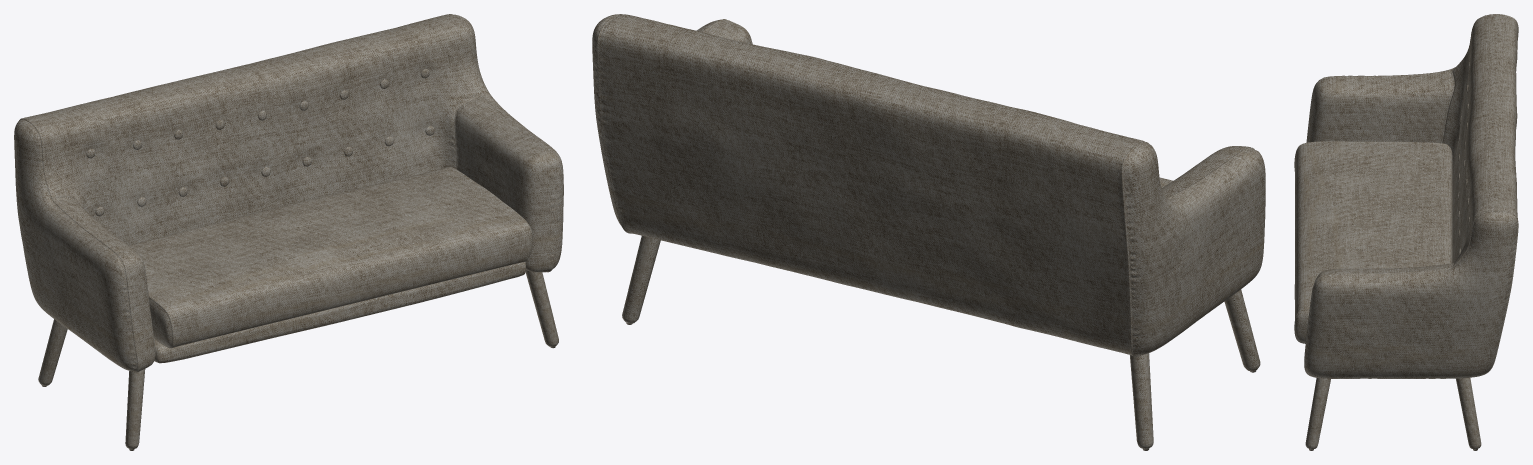
The model's file is SOFA-001.glb.
3 renders of one model, left to right at view 1: azimuth 30°, elevation 25°; view 2: azimuth 150°, elevation 25°; view 3: azimuth 270°, elevation 25°, orthographic. The views are drawn at different scales.
Visible parts, largest first — view 1: couch_01; view 2: couch_01; view 3: couch_01.
Part boxes in pixels (box(x1,y1,x2,y2)): couch_01: box(14, 14, 563, 450); couch_01: box(592, 14, 1265, 450); couch_01: box(1294, 14, 1518, 450).
Size of the model in its own units: 1389 by 746 by 626.
Materials: 1 (1 with a texture image).
